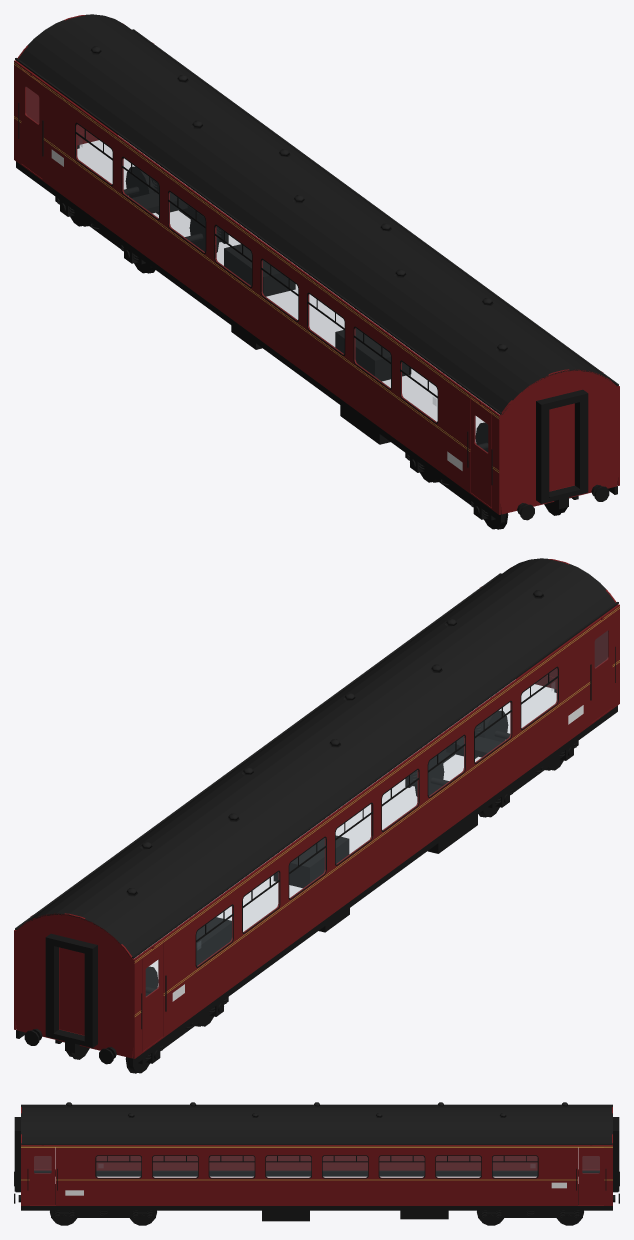
File: coach_tso2b_lod1.glb
3 renders of one model, top to bottom at view 1: azimuth 30°, elevation 25°; view 2: azimuth 150°, elevation 25°; view 3: azimuth 270°, elevation 25°, orthographic. The views are drawn at different scales.
Parts seen in each view (by area): view 1: coach_static_roof_black, coach_static_coach_maroon, coach_static_underframe, coach_static_glass, coach_static_lining_gold, gw_door_A_coach_maroon; view 2: coach_static_roof_black, coach_static_coach_maroon, coach_static_underframe, coach_static_glass, coach_static_lining_gold, gw_door_B_coach_maroon; view 3: coach_static_coach_maroon, coach_static_roof_black, coach_static_underframe, coach_static_glass, coach_static_lining_gold.
Part boxes in pixels (left/top/right/bottom): coach_static_roof_black: left=15, top=14, right=618, bottom=414; coach_static_coach_maroon: left=14, top=15, right=619, bottom=514; coach_static_underframe: left=16, top=102, right=617, bottom=529; coach_static_glass: left=26, top=87, right=487, bottom=452; coach_static_lining_gold: left=14, top=62, right=499, bottom=472; gw_door_A_coach_maroon: left=549, top=403, right=574, bottom=491; coach_static_roof_black: left=15, top=558, right=618, bottom=959; coach_static_coach_maroon: left=14, top=559, right=619, bottom=1058; coach_static_underframe: left=16, top=646, right=617, bottom=1073; coach_static_glass: left=146, top=631, right=607, bottom=996; coach_static_lining_gold: left=134, top=606, right=619, bottom=1016; gw_door_B_coach_maroon: left=59, top=947, right=84, bottom=1035; coach_static_coach_maroon: left=21, top=1107, right=612, bottom=1205; coach_static_roof_black: left=21, top=1102, right=612, bottom=1144; coach_static_underframe: left=14, top=1117, right=619, bottom=1225; coach_static_glass: left=34, top=1156, right=599, bottom=1177; coach_static_lining_gold: left=21, top=1146, right=612, bottom=1180.
Bounding box in the file's own units: 2.9 × 3.98 × 20.12.
